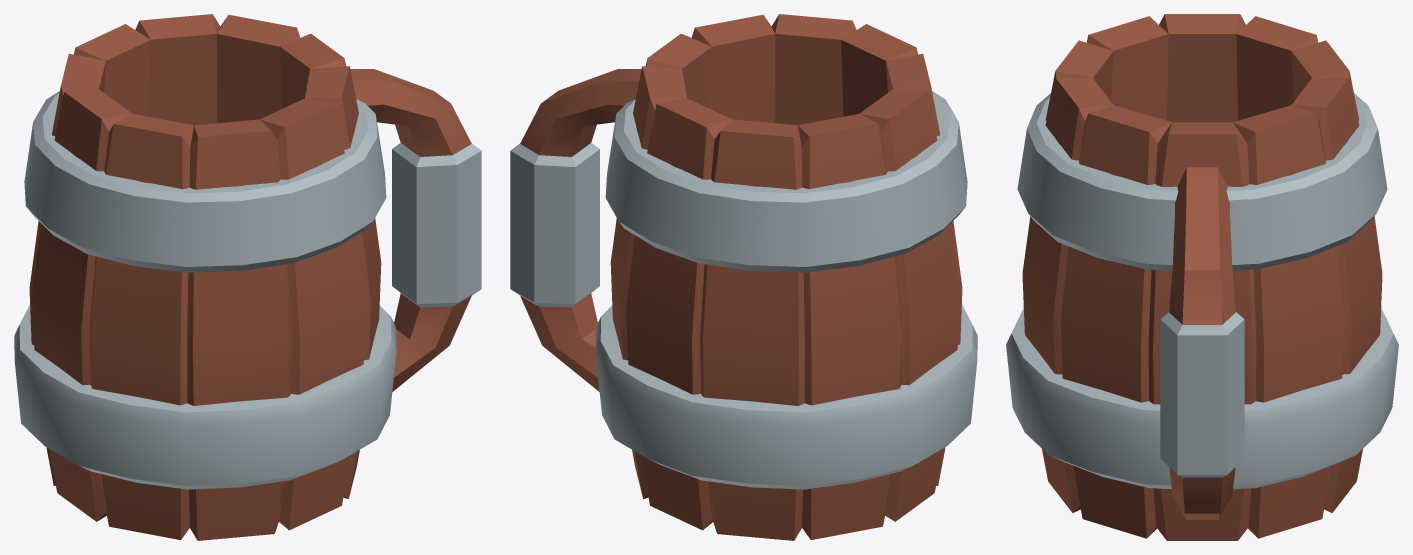
The model's file is mug.glb.
The picture shows the model from 3 angles, left to right: view 1: azimuth 30°, elevation 25°; view 2: azimuth 150°, elevation 25°; view 3: azimuth 270°, elevation 25°; orthographic projection.
Visible parts, largest first — view 1: mug; view 2: mug; view 3: mug.
Part boxes in pixels (x1=…): mug: x1=14, y1=14, x2=481, y2=540; mug: x1=510, y1=14, x2=977, y2=540; mug: x1=1006, y1=14, x2=1398, y2=540.
Size of the model in its own units: 0.0766 by 0.0681 by 0.0601.
